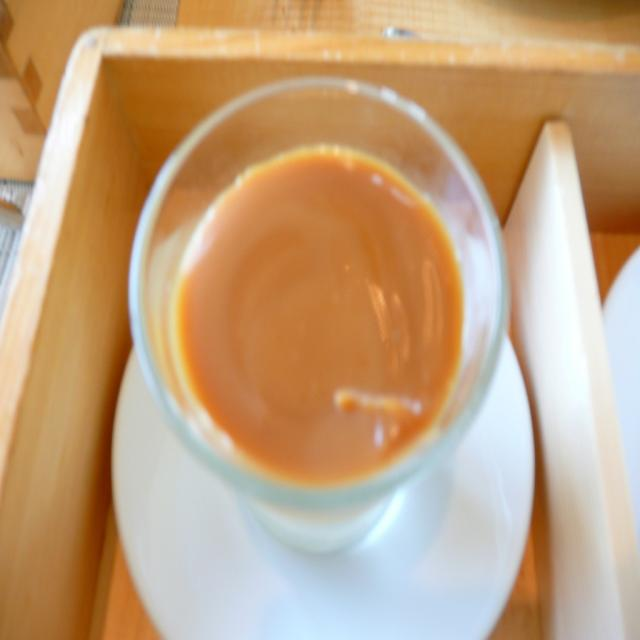Coffee: (172, 145, 463, 484)
Tea: (163, 142, 461, 478)
